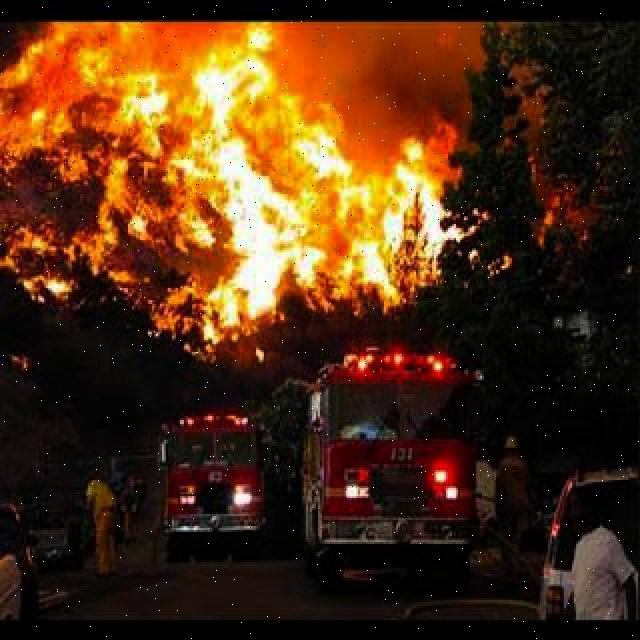fire: (6, 48, 474, 307)
light: (345, 348, 475, 376), (426, 459, 476, 514), (222, 485, 255, 516)
